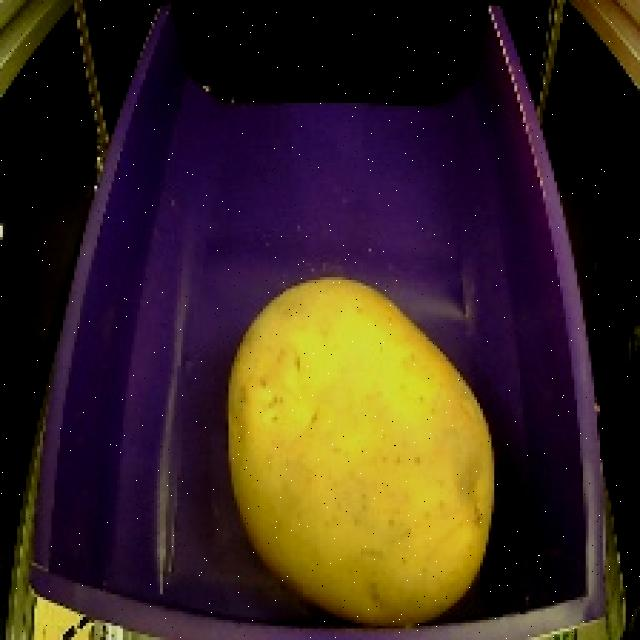full_potato: (204, 264, 503, 627)
